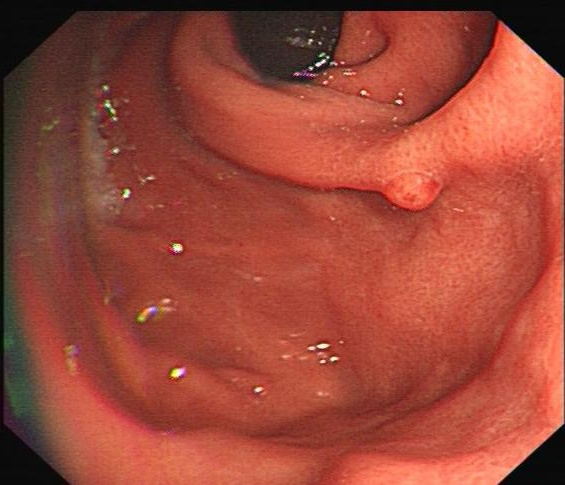Polyp: (367, 153, 458, 222)
